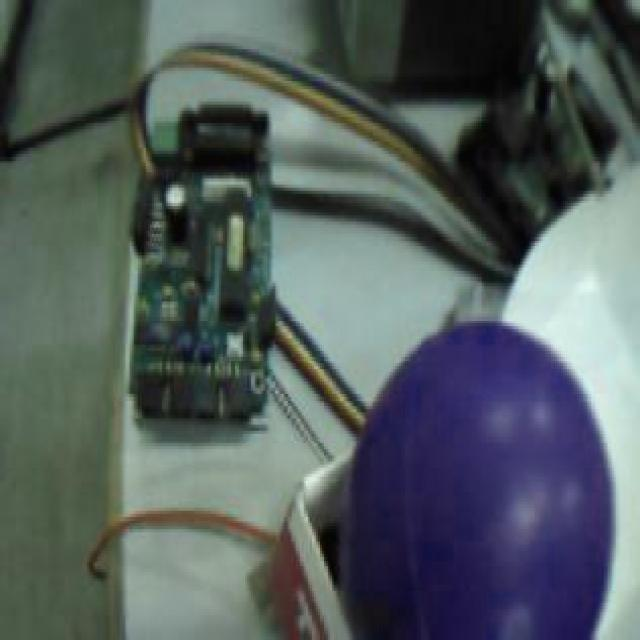BallPurple: (346, 317, 614, 640)
